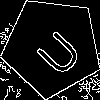U: (27, 21, 85, 79)
